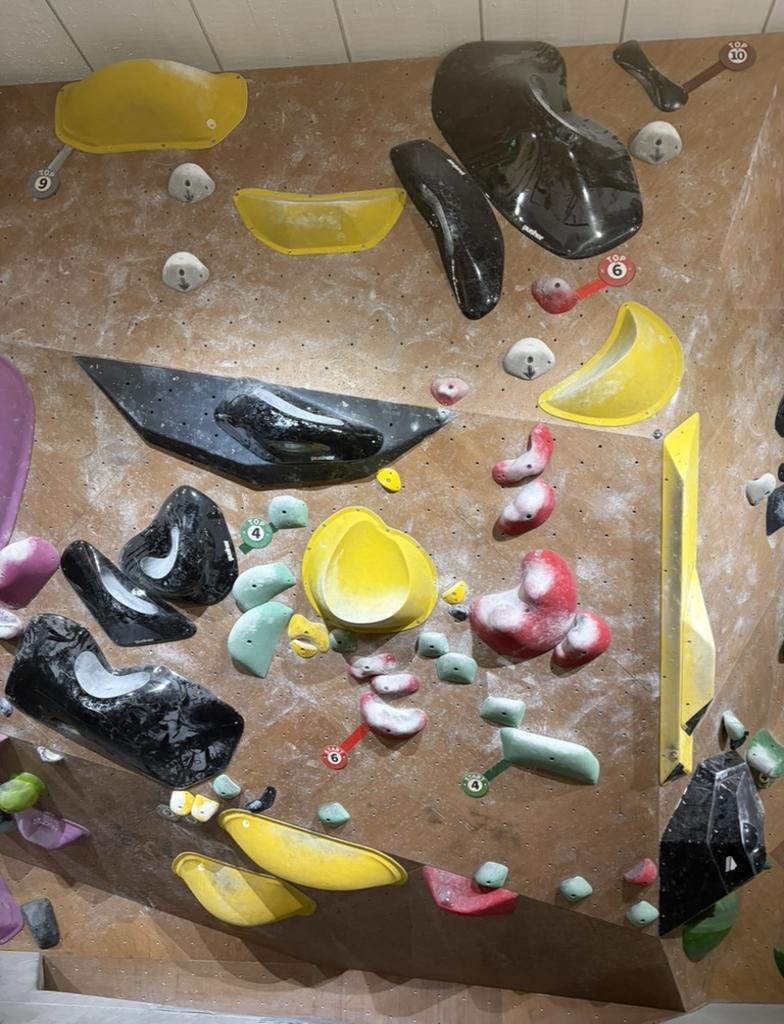crimp: (376, 467, 400, 491), (442, 580, 464, 603), (292, 639, 315, 658)
downhold: (629, 120, 681, 164), (502, 337, 554, 379), (163, 252, 208, 291), (169, 163, 213, 202), (745, 473, 775, 505)
jib: (432, 378, 469, 405), (558, 875, 592, 902), (475, 861, 507, 888), (624, 858, 656, 885), (627, 900, 658, 927), (318, 802, 349, 828), (212, 774, 239, 798)
jug: (500, 728, 598, 783), (228, 601, 292, 676), (232, 562, 295, 611), (532, 277, 577, 312), (480, 696, 525, 727), (436, 652, 477, 683), (270, 495, 307, 528), (415, 631, 448, 658)
ledge: (6, 614, 243, 788), (538, 302, 682, 426), (55, 60, 246, 152), (302, 507, 437, 633), (61, 542, 194, 645), (120, 486, 237, 603), (235, 188, 404, 254)
pinch: (614, 41, 685, 111), (349, 653, 396, 679), (371, 673, 419, 696)
sidepull: (432, 41, 642, 258), (659, 414, 715, 784), (390, 140, 503, 318)
sloper: (471, 550, 576, 658), (493, 423, 553, 483), (552, 612, 608, 670), (497, 479, 554, 535), (360, 693, 427, 737), (0, 772, 45, 812)
tape: (683, 40, 755, 92), (577, 255, 633, 299), (321, 723, 369, 769), (28, 146, 71, 195), (460, 760, 511, 797), (240, 518, 272, 552)
undercling: (219, 810, 406, 890), (172, 853, 314, 926)
volume: (75, 356, 455, 485), (659, 751, 766, 934)
